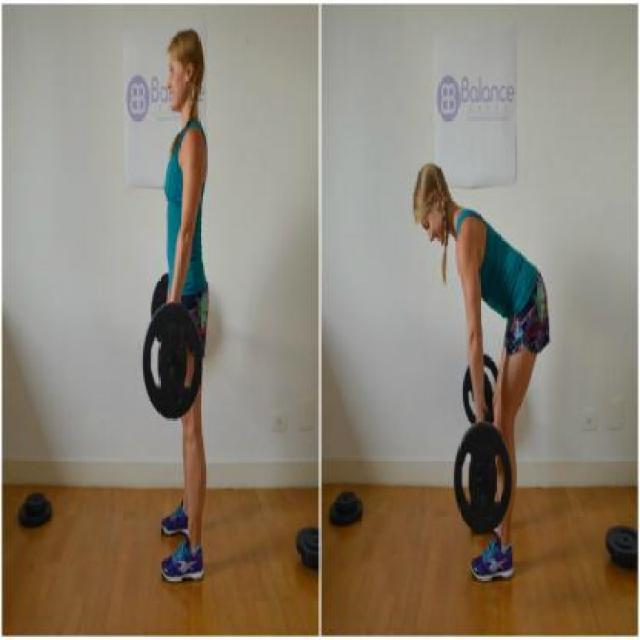Barbell: (164, 366, 180, 384), (476, 488, 489, 508)
